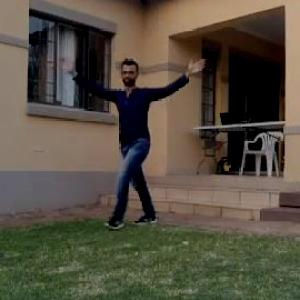takeoff: (59, 57, 212, 230)
